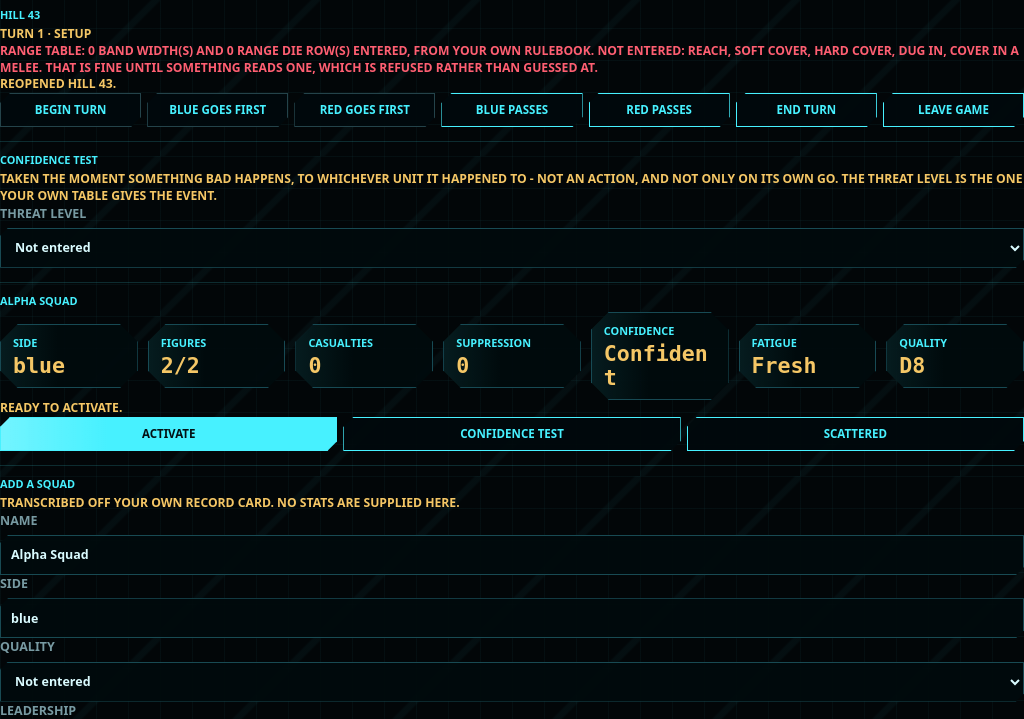
Scenario: StarGrunt add-a-squad panel › posts exactly the record card that was typed in, and nothing beside it
The width and height of the screenshot is (1024, 719).
Expected: the text "Reopened Hill 43." is shown, [0, 75, 116, 92]
Step 1. Select "D12" in the dropdown labelled "Quality" → (512, 682), box [0, 662, 1023, 702]
(page scrolled)
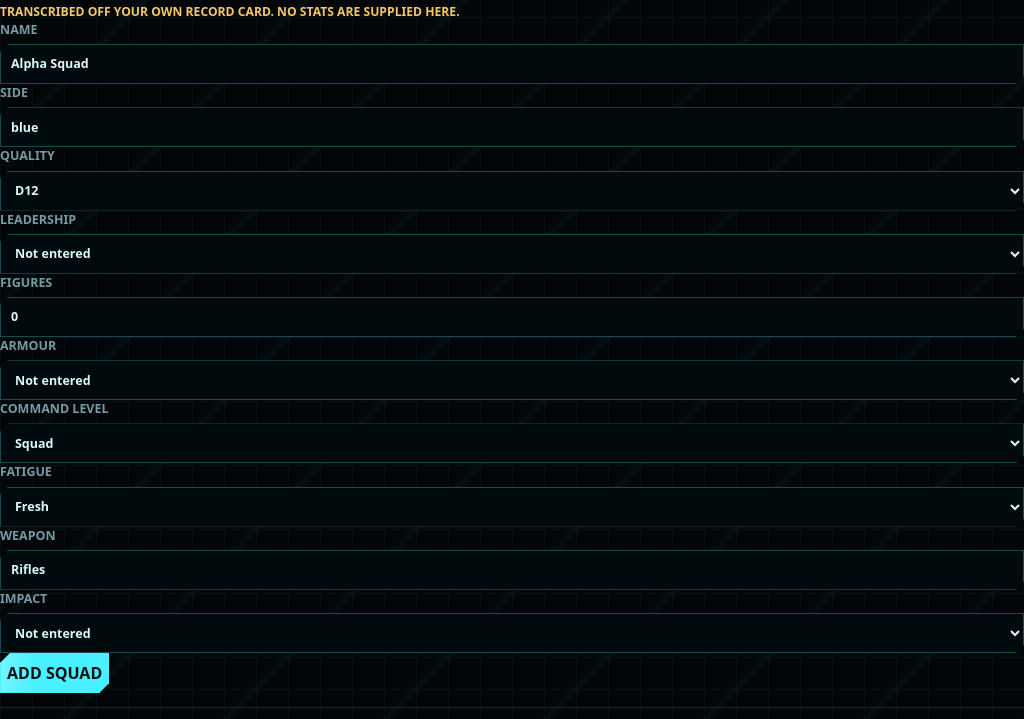
Step 2. Select "D4" in the dropdown labelled "Armour" → (512, 380), box [0, 360, 1023, 400]
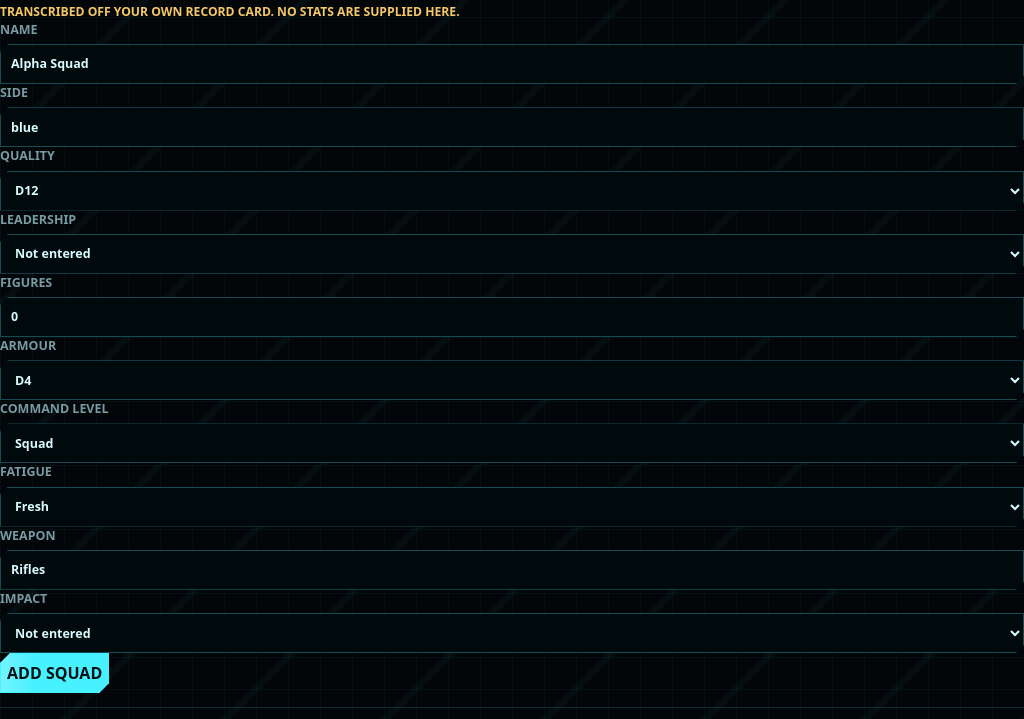
Step 3. Select "D10" in the dropdown labelled "Impact" → (512, 633), box [0, 613, 1023, 653]
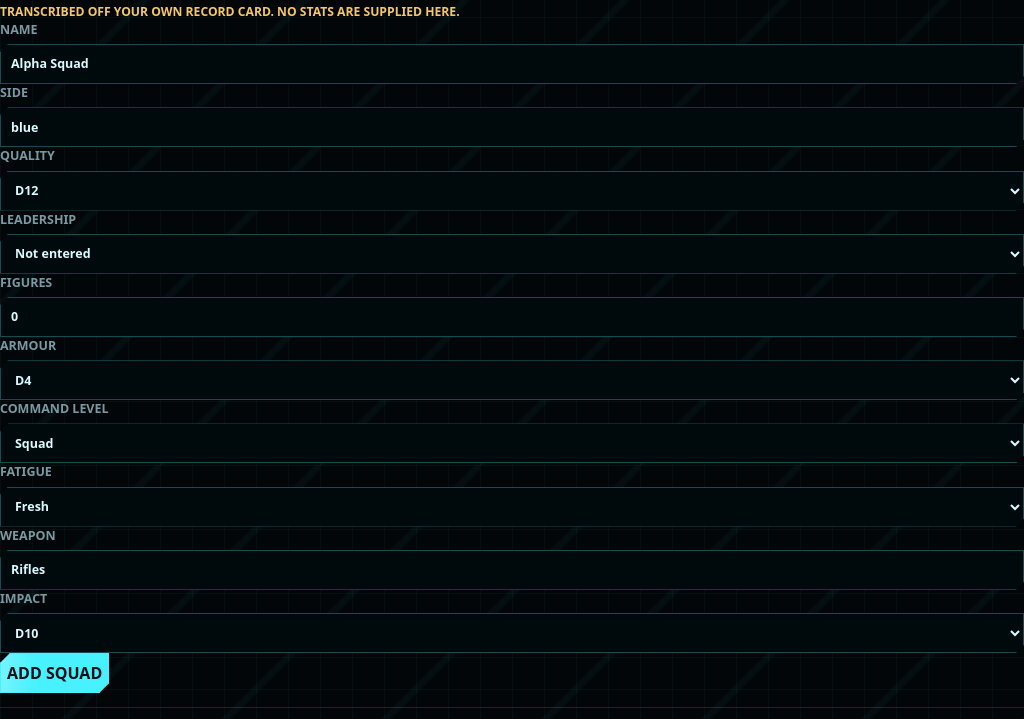
Note: 4 is a Leadership Value at this table and was not one the panel used to offer at all.
Step 4. Select "4" in the dropdown labelled "Leadership" → (512, 254), box [0, 234, 1023, 274]
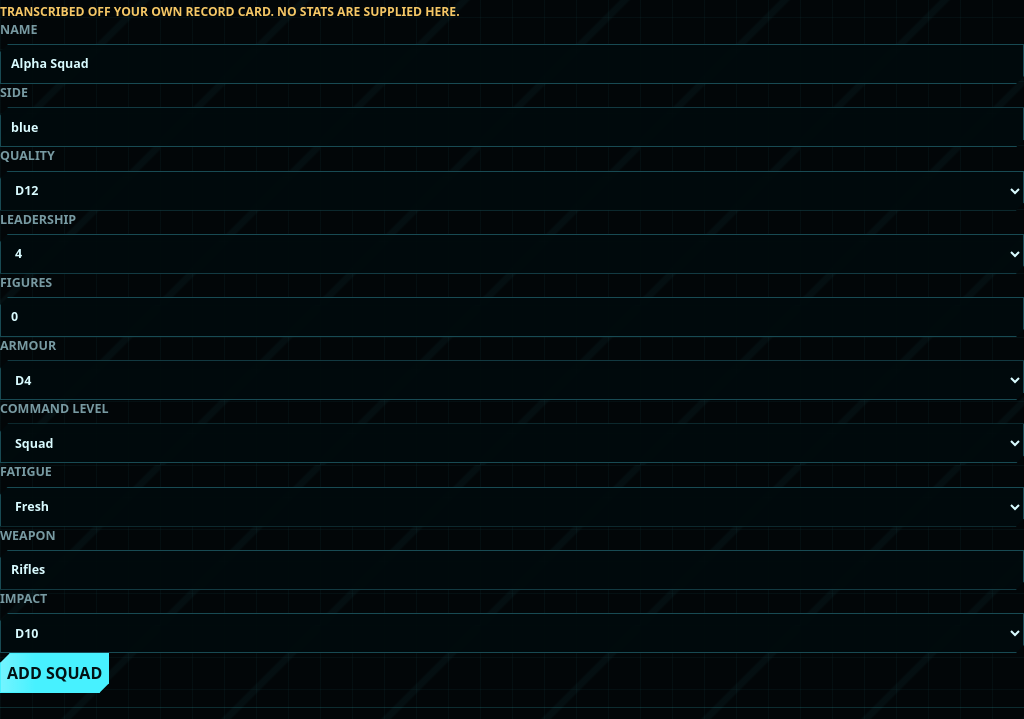
Step 5. Replace the text in the number field labelled "Figures" with "5" → (512, 317), box [0, 297, 1023, 337]
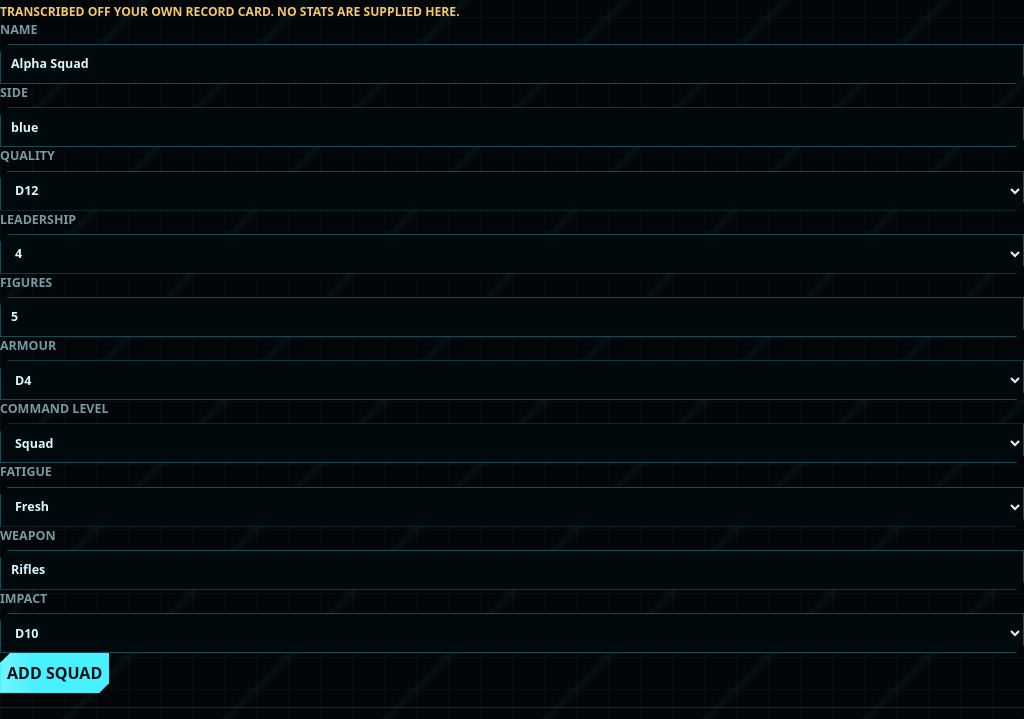
Step 6. Click the button "Add Squad" → (55, 673), box [0, 653, 109, 693]
(page scrolled)
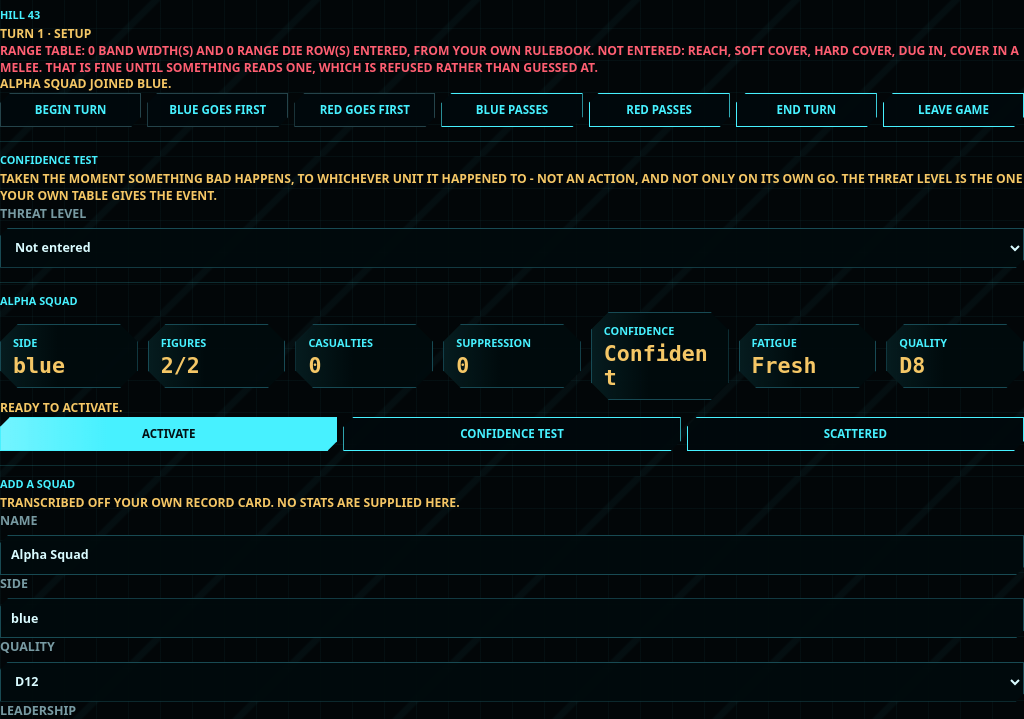
Expected: the text "Alpha Squad joined blue." is shown, [0, 75, 171, 92]
